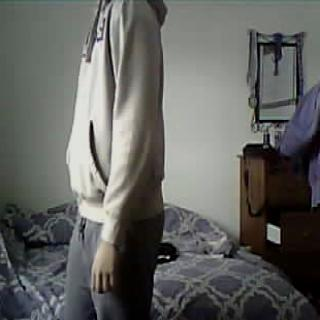Gray Sweatpants: (60, 214, 172, 320)
Yellow Hoodie: (59, 6, 174, 221)
